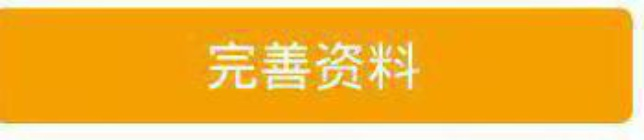Button: (1, 1, 643, 139)
